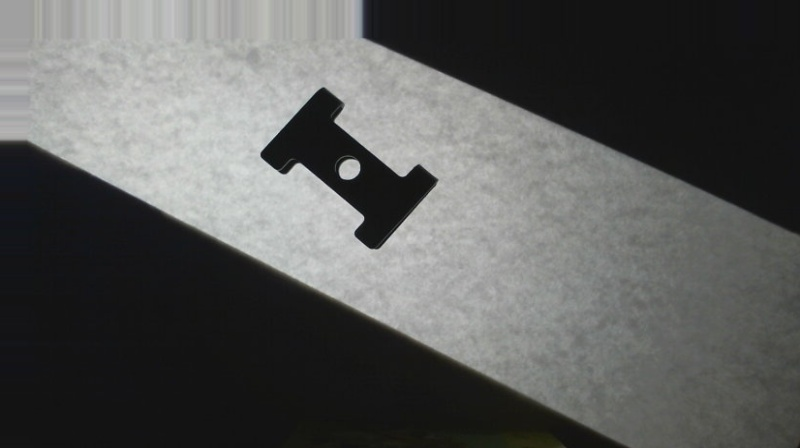O002: (257, 85, 442, 250)
